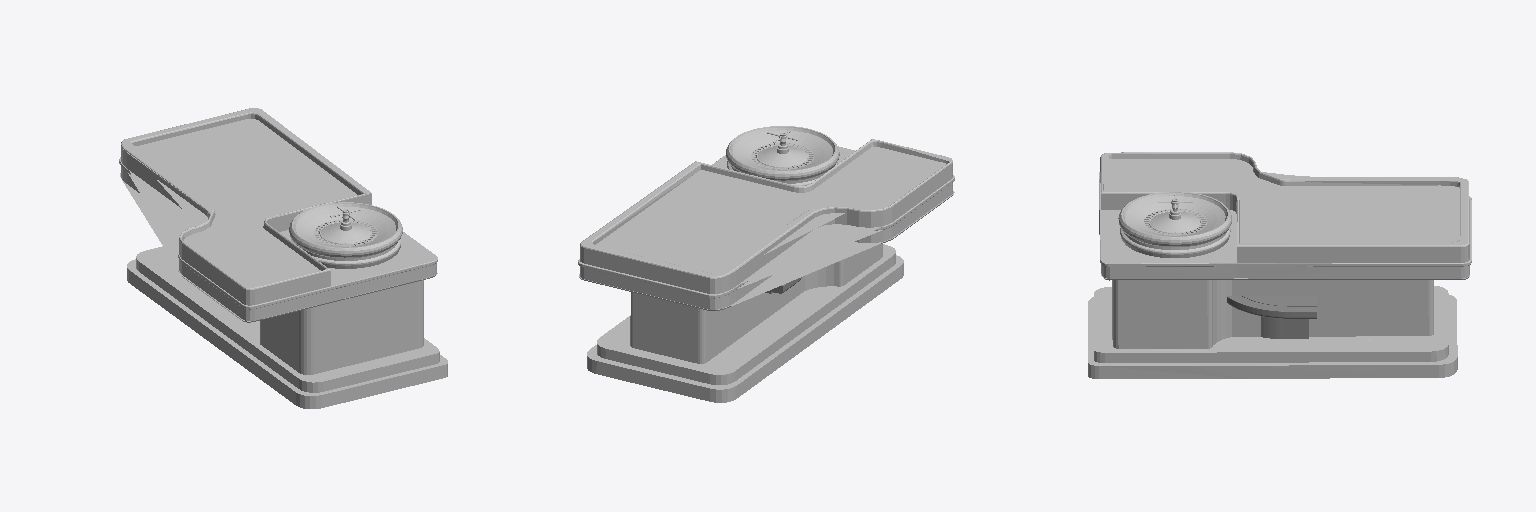
The model's file is roulete_table2.obj.
3 renders of one model, left to right at view 1: azimuth 30°, elevation 25°; view 2: azimuth 150°, elevation 25°; view 3: azimuth 270°, elevation 25°, orthographic.
Parts seen in each view (by area): view 1: Table.003; view 2: Table.003; view 3: Table.003, Cylinder001_Mesh.
Part boxes in pixels (x1,y1,x2,y2): Table.003: (119, 108, 447, 408); Table.003: (578, 126, 954, 402); Table.003: (1088, 152, 1471, 378); Cylinder001_Mesh: (1227, 296, 1316, 338).
Bounding box in the file's own units: 4.42 × 3.15 × 7.33.